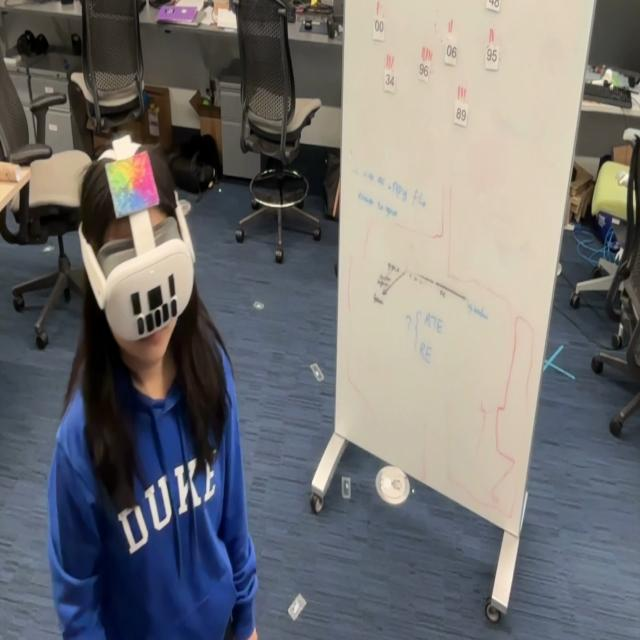Headset: (77, 143, 196, 342)
Marker: (103, 147, 161, 220)
